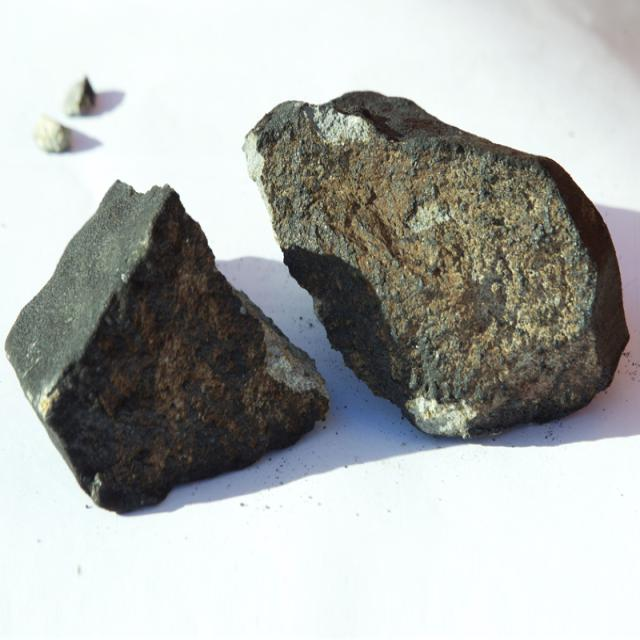Pecahan Agregat: (240, 73, 634, 451), (3, 152, 335, 570)
